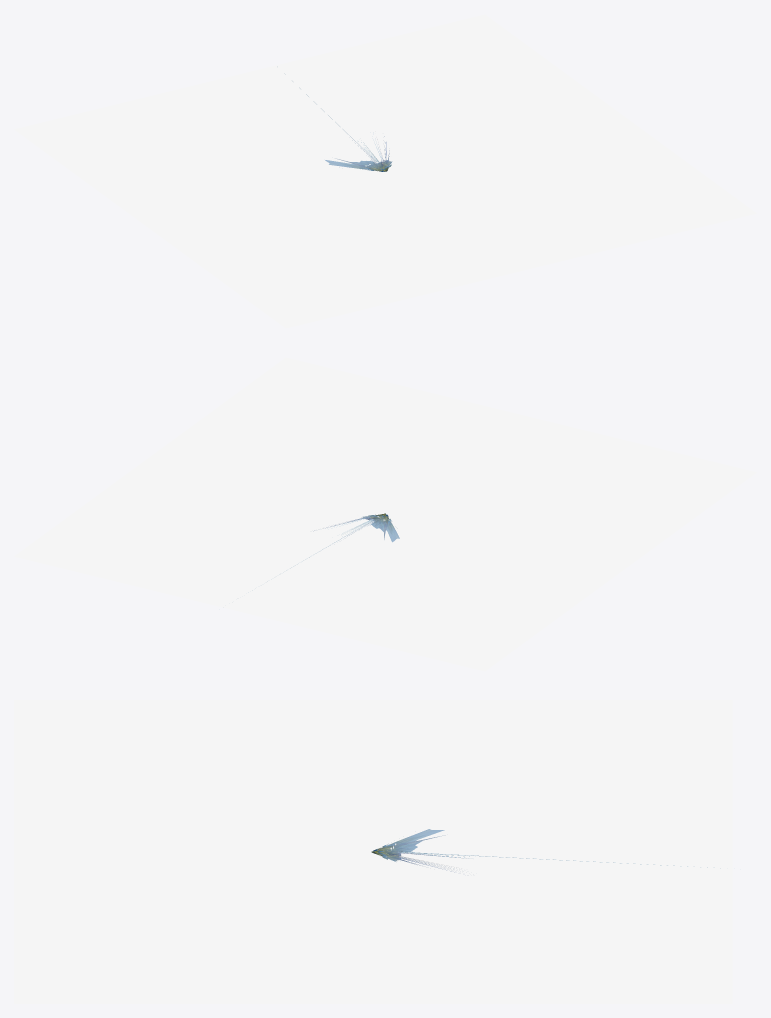
File: world.glb
3 renders of one model, top to bottom at view 1: azimuth 30°, elevation 25°; view 2: azimuth 150°, elevation 25°; view 3: azimuth 270°, elevation 25°, orthographic. The views are drawn at different scales.
Parts seen in each view (by area): view 1: OpenOcean; view 2: OpenOcean; view 3: OpenOcean, Terrain, SnowRange.
Part boxes in pixels (x1=…): OpenOcean: x1=14, y1=14, x2=756, y2=328; OpenOcean: x1=14, y1=357, x2=756, y2=671; OpenOcean: x1=14, y1=700, x2=732, y2=1003; Terrain: x1=373, y1=829, x2=445, y2=861; SnowRange: x1=387, y1=851, x2=720, y2=872.
Size of the model in its own units: 60000 by 991 by 62018.
2 materials, 1 textured.
